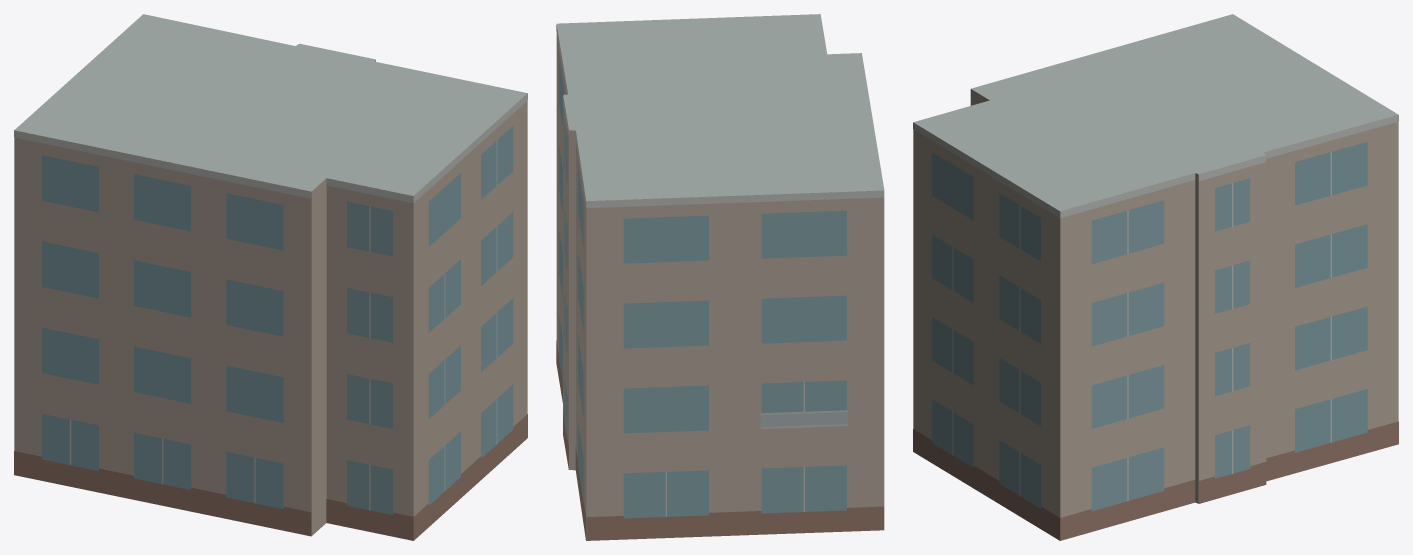
Rendered from survey-upis-32942902.glb.
3 views of the same model, side by side, from view 1: azimuth 30°, elevation 25°; view 2: azimuth 150°, elevation 25°; view 3: azimuth 270°, elevation 25° (orthographic). The views are drawn at different scales.
Visible parts, largest first — view 1: survey-upis-32942902.tmp; view 2: survey-upis-32942902.tmp; view 3: survey-upis-32942902.tmp.
Boxes of the visible parts, left/top/right/bottom form: survey-upis-32942902.tmp: left=14, top=14, right=527, bottom=540; survey-upis-32942902.tmp: left=556, top=14, right=884, bottom=540; survey-upis-32942902.tmp: left=913, top=14, right=1398, bottom=540.
Size of the model in its own units: 15.04 by 11.7 by 15.64.
